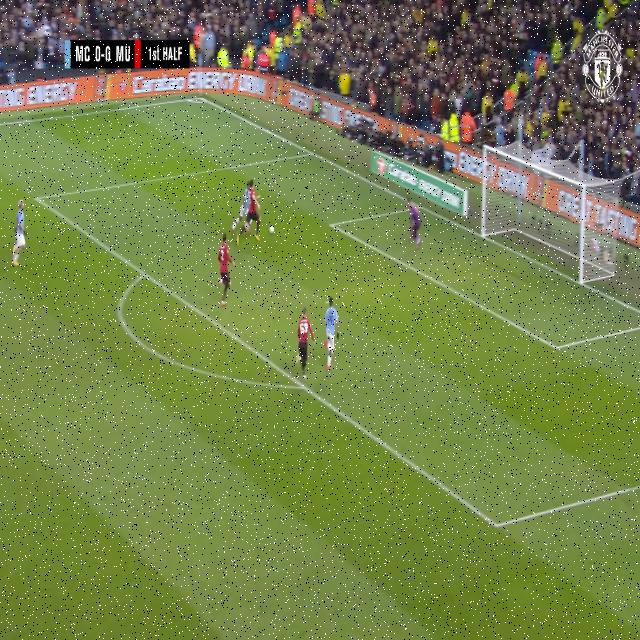Ball: (269, 226, 274, 233)
GoalKeeper: (408, 202, 423, 252)
TEAM 1: (218, 236, 236, 308), (296, 312, 314, 378), (248, 180, 262, 244)
TEAM 2: (324, 299, 342, 370), (11, 199, 27, 266), (230, 180, 249, 230)
